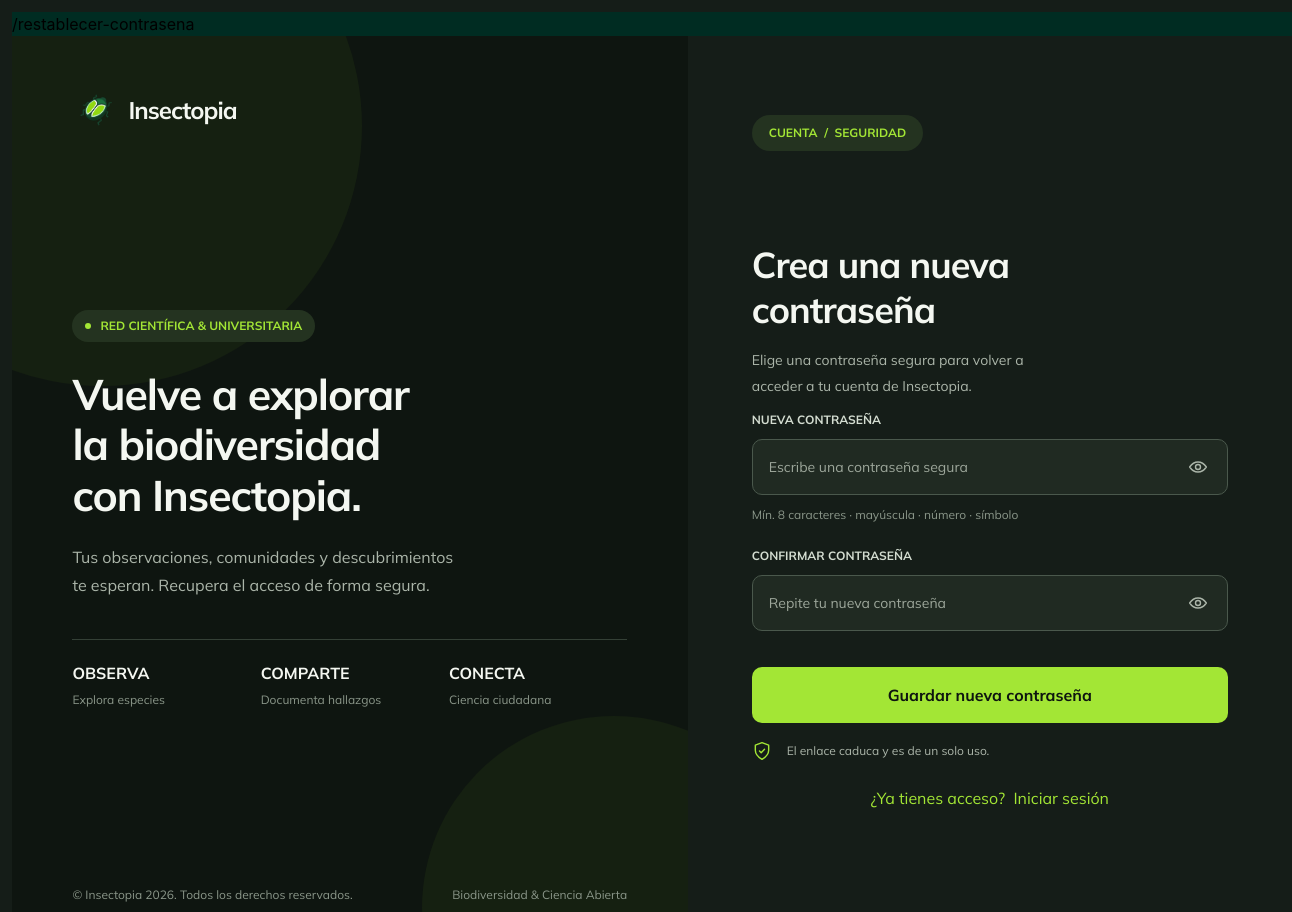
Scenario: recuperación de contraseña › bloquea token rechazado TOKEN_EXPIRED
Type "SeguraClave1!" into the password field labelled "NUEVA CONTRASEÑA" at (990,467), box [752,439,1228,495]
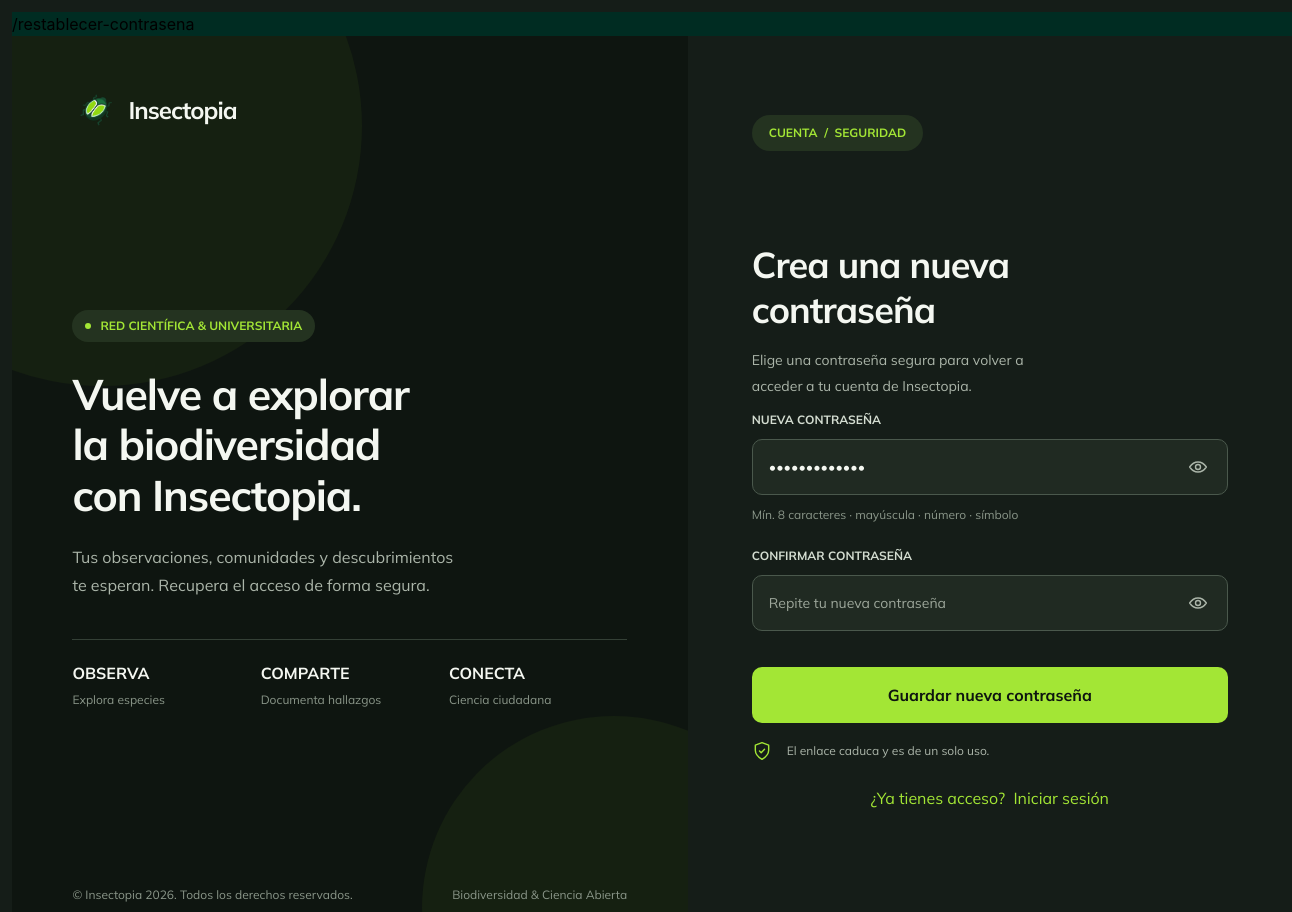
Type "SeguraClave1!" into the password field labelled "CONFIRMAR CONTRASEÑA" at (990,603), box [752,575,1228,631]
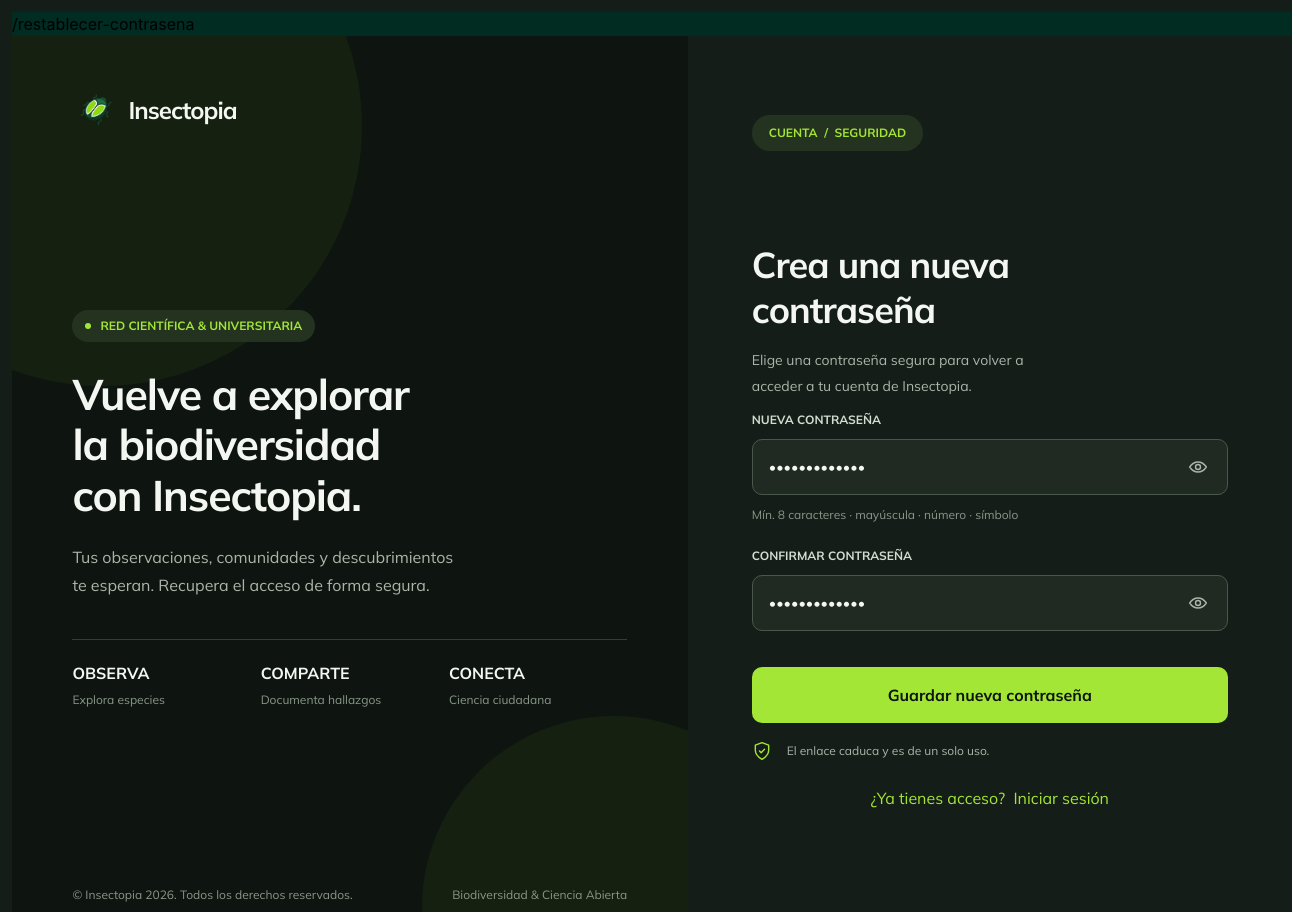
Click the button "Guardar nueva contraseña" at (990,695), box [752,667,1228,723]
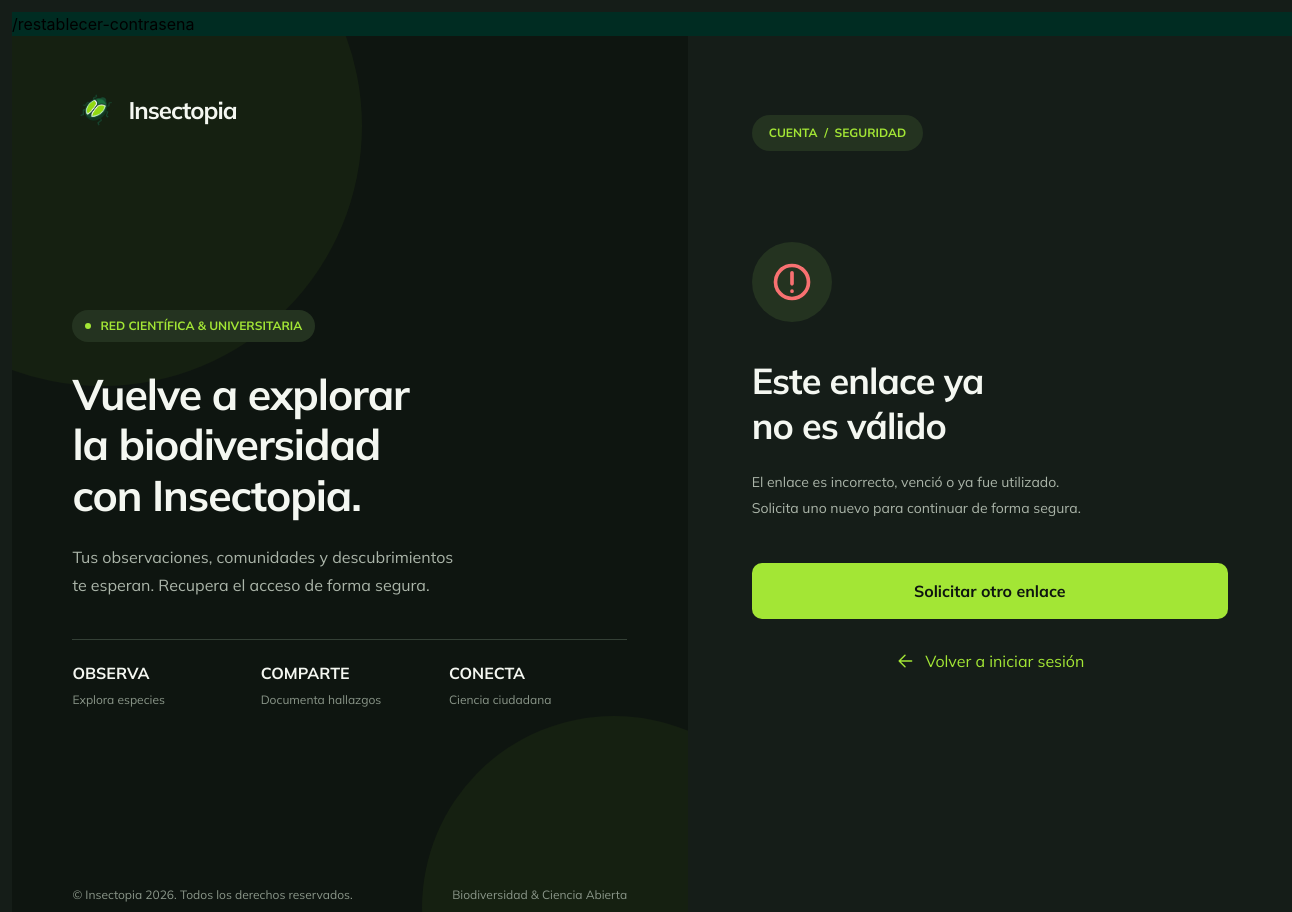
expect the heading "Este enlace ya no es válido" is shown: met, box [752,358,983,448]
expect the label labelled "NUEVA CONTRASEÑA" is gone: met
